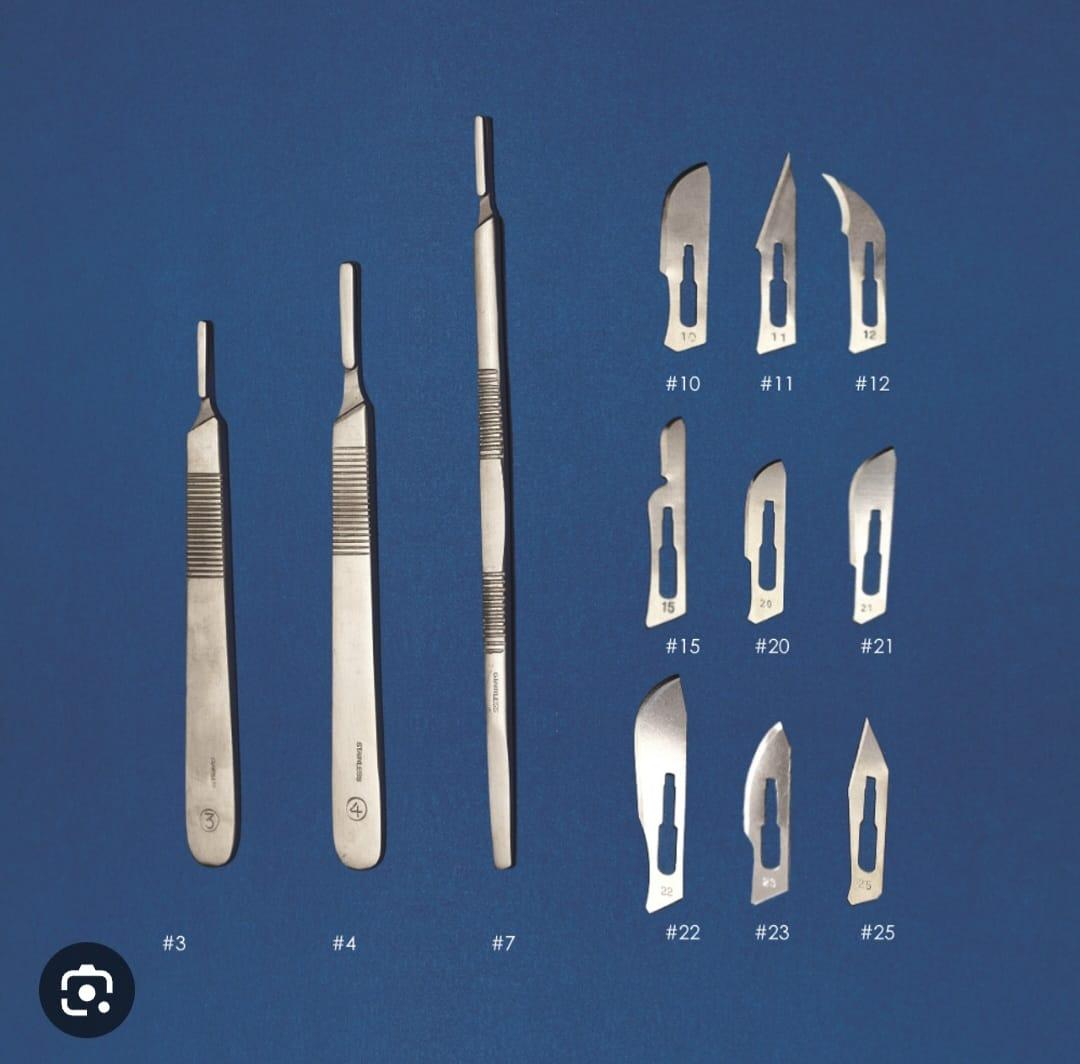Knife Blade: (438, 85, 548, 890), (593, 670, 727, 948), (795, 125, 923, 388), (622, 140, 733, 373), (838, 702, 930, 958), (740, 108, 820, 390), (722, 433, 817, 652), (743, 708, 817, 922), (838, 438, 912, 632)
Knife Handle: (310, 250, 407, 887), (163, 280, 257, 890)
